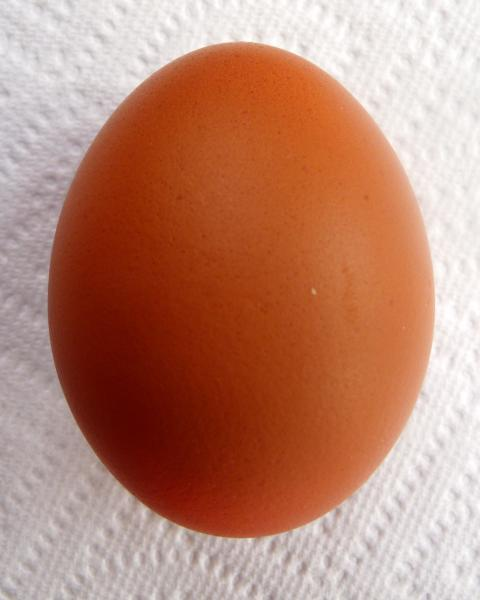egg: (40, 36, 439, 542)
